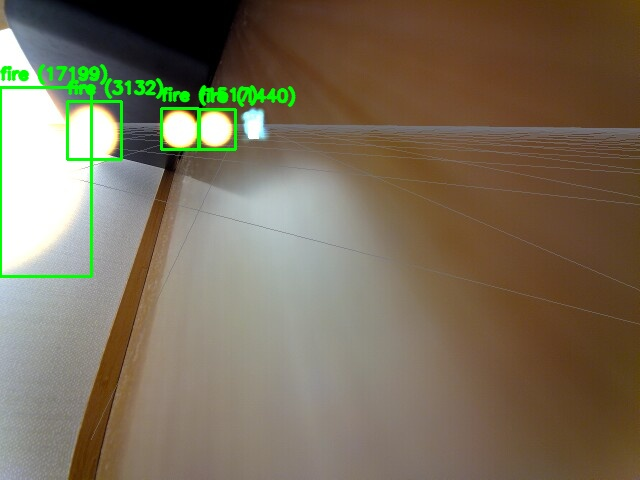fire: (0, 87, 91, 276), (67, 101, 121, 159), (161, 108, 198, 149), (199, 109, 235, 149)
